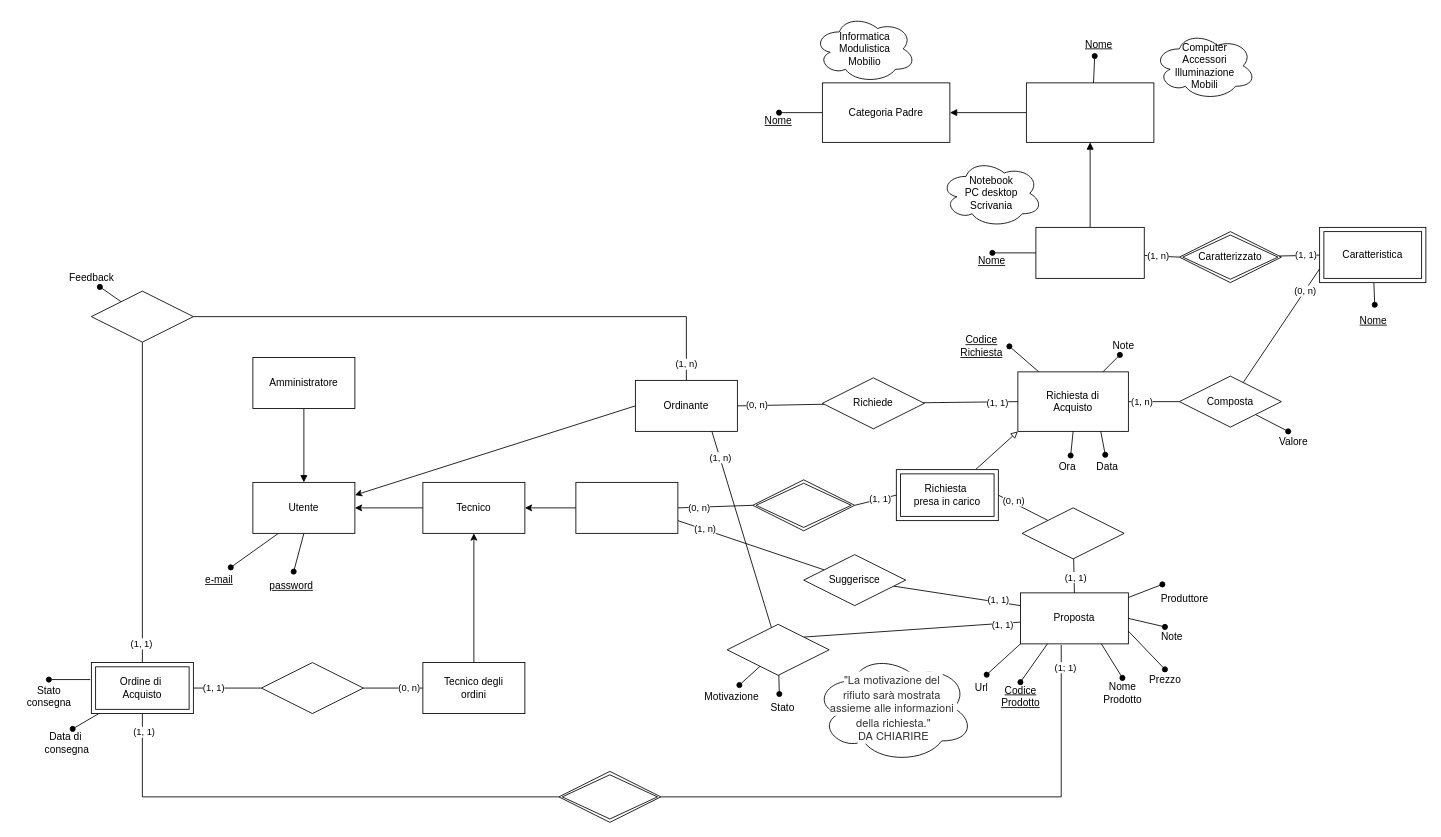
The diagram is 1441 pixels wide and 837 high, and some of its shapes have lost their labels. Here are the shapes that lost their labels. From the top down, the centre of each, then its label:
At (1090,112): "Categoria Figlio".
At (1089,252): "Categoria Nipote".
At (142,316): "Chiude".
At (626,507): "Tecnico dei preventivi".
At (803,505): "Processa".
At (1072,533): "è associata".
At (777,649): "Sceglie".
At (312,688): "Effettua".
At (609,796): "Riceve".
